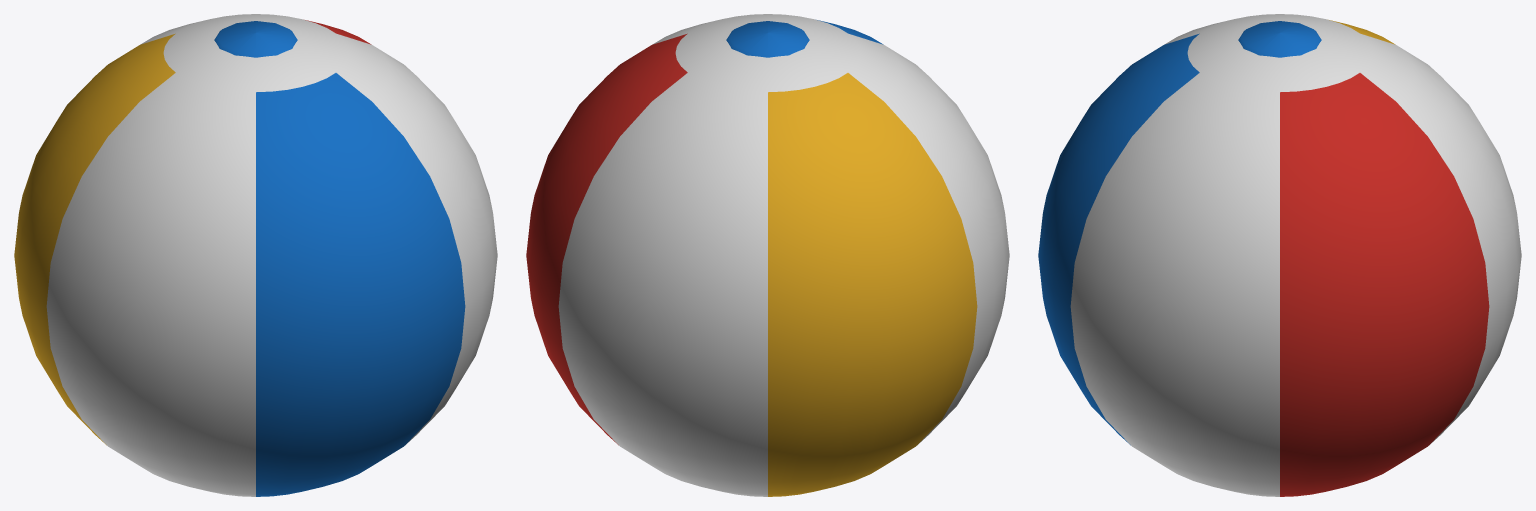
The model's file is beach_ball.glb.
3 renders of one model, left to right at view 1: azimuth 30°, elevation 25°; view 2: azimuth 150°, elevation 25°; view 3: azimuth 270°, elevation 25°, orthographic.
Parts seen in each view (by area): view 1: beach_ball_mesh; view 2: beach_ball_mesh; view 3: beach_ball_mesh.
Boxes of the visible parts, bbox=[...] form: beach_ball_mesh: bbox=[14, 14, 497, 496]; beach_ball_mesh: bbox=[526, 14, 1009, 496]; beach_ball_mesh: bbox=[1038, 14, 1521, 496].
Bounding box in the file's own units: 0.5 × 0.504 × 0.5.
